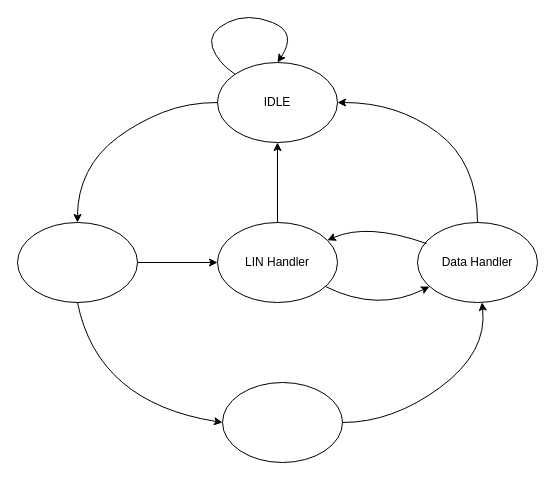
This 555x480 diagram has some shape labels left out. Each missing label, with the box of its shape:
Interrupt Service Routine: (16, 222, 138, 302)
Trigger Handler: (222, 382, 342, 462)
